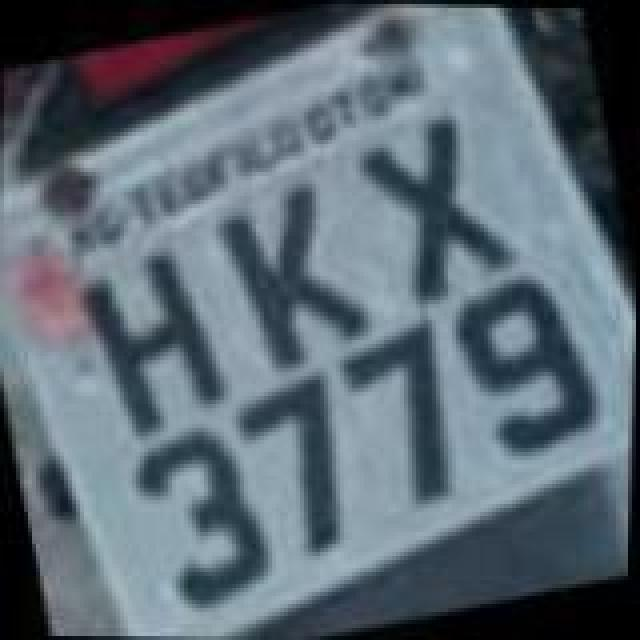3: (118, 416, 286, 616)
7: (334, 316, 478, 516), (228, 366, 372, 566)
9: (434, 262, 614, 466)
H: (66, 230, 246, 438)
K: (202, 168, 382, 380)
X: (344, 96, 528, 312)
